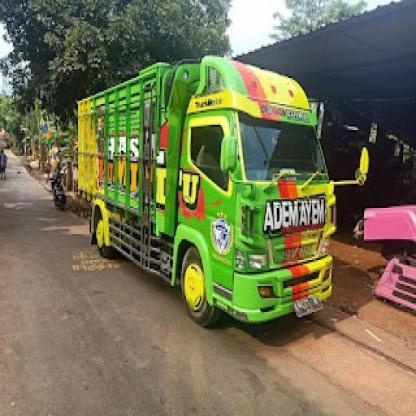truck: (75, 55, 370, 325)
